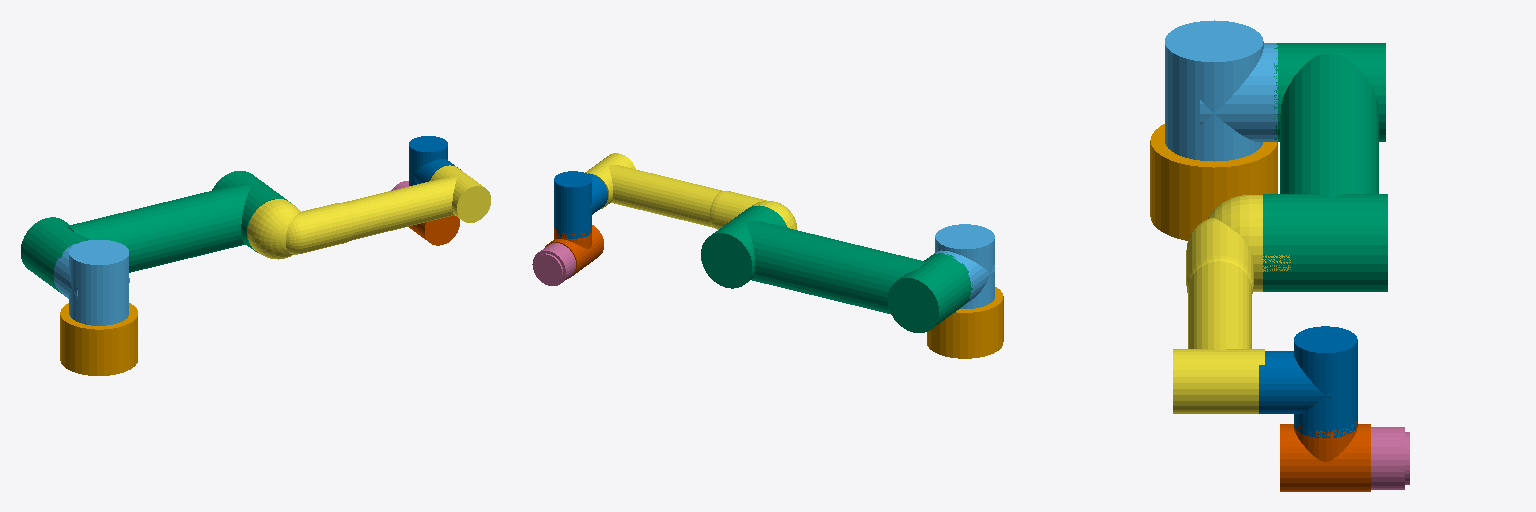
robot.urdf — UR5e:
<?xml version="1.0"?>
<robot name="UR5e" xmlns:xacro="http://ros.org/wiki/xacro">
  <link name="base_link">
    <visual>
      <origin xyz="0 0 0.05" rpy="-4.2146848e-08 0 0"/>
      <geometry>
        <cylinder radius="0.076" length="0.1"/>
      </geometry>
    </visual>
    <collision>
      <origin xyz="0 0 0.05" rpy="-4.2146848e-08 0 0"/>
      <geometry>
        <cylinder radius="0.076" length="0.1"/>
      </geometry>
    </collision>
  </link>
  <joint name="shoulder_pan_joint" type="revolute">
    <parent link="base_link"/>
    <child link="shoulder_link"/>
    <axis xyz="0 0 1"/>
    <limit effort="150" lower="-6.28319" upper="6.28319" velocity="3.14"/>
    <origin xyz="0 0 0.163" rpy="0 0 0"/>
  </joint>
  <link name="shoulder_link">
    <visual>
      <origin xyz="0 0 0" rpy="-4.2146848e-08 0 0"/>
      <geometry>
        <cylinder radius="0.059" length="0.135"/>
      </geometry>
    </visual>
    <collision>
      <origin xyz="0 0 0" rpy="-4.2146848e-08 0 0"/>
      <geometry>
        <cylinder radius="0.059" length="0.135"/>
      </geometry>
    </collision>
    <visual>
      <origin xyz="0 0.03 0" rpy="1.5707963 0 0"/>
      <geometry>
        <cylinder radius="0.059" length="0.093"/>
      </geometry>
    </visual>
    <collision>
      <origin xyz="0 0.03 0" rpy="1.5707963 0 0"/>
      <geometry>
        <cylinder radius="0.059" length="0.093"/>
      </geometry>
    </collision>
  </link>
  <joint name="shoulder_lift_joint" type="revolute">
    <parent link="shoulder_link"/>
    <child link="upper_arm_link"/>
    <axis xyz="0 1 0"/>
    <limit effort="150" lower="-6.28319" upper="6.28319" velocity="3.14"/>
    <origin xyz="0 0.138 0" rpy="0 1.570796 0"/>
  </joint>
  <link name="upper_arm_link">
    <visual>
      <origin xyz="0 0 0.22" rpy="-4.2146848e-08 0 0"/>
      <geometry>
        <cylinder radius="0.059" length="0.407"/>
      </geometry>
    </visual>
    <collision>
      <origin xyz="0 0 0.22" rpy="-4.2146848e-08 0 0"/>
      <geometry>
        <cylinder radius="0.059" length="0.407"/>
      </geometry>
    </collision>
    <visual>
      <origin xyz="0 0 0" rpy="1.5707963 0 0"/>
      <geometry>
        <cylinder radius="0.059" length="0.133"/>
      </geometry>
    </visual>
    <collision>
      <origin xyz="0 0 0" rpy="1.5707963 0 0"/>
      <geometry>
        <cylinder radius="0.059" length="0.133"/>
      </geometry>
    </collision>
    <visual>
      <origin xyz="0 -0.005 0.424" rpy="1.5707963 0 0"/>
      <geometry>
        <cylinder radius="0.059" length="0.149"/>
      </geometry>
    </visual>
    <collision>
      <origin xyz="0 -0.005 0.424" rpy="1.5707963 0 0"/>
      <geometry>
        <cylinder radius="0.059" length="0.149"/>
      </geometry>
    </collision>
  </link>
  <joint name="elbow_joint" type="revolute">
    <parent link="upper_arm_link"/>
    <child link="forearm_link"/>
    <axis xyz="0 1 0"/>
    <limit effort="150" lower="-3.14159" upper="3.14159" velocity="3.14"/>
    <origin xyz="0 -0.131 0.425" rpy="0 0 0"/>
  </joint>
  <link name="forearm_link">
    <visual>
      <origin xyz="0 0 0.207" rpy="-4.2146848e-08 0 0"/>
      <geometry>
        <cylinder radius="0.038" length="0.36"/>
      </geometry>
    </visual>
    <collision>
      <origin xyz="0 0 0.207" rpy="-4.2146848e-08 0 0"/>
      <geometry>
        <cylinder radius="0.038" length="0.36"/>
      </geometry>
    </collision>
    <visual>
      <origin xyz="0 -0.001 0.39" rpy="1.5707963 0 0"/>
      <geometry>
        <cylinder radius="0.039" length="0.109"/>
      </geometry>
    </visual>
    <collision>
      <origin xyz="0 -0.001 0.39" rpy="1.5707963 0 0"/>
      <geometry>
        <cylinder radius="0.039" length="0.109"/>
      </geometry>
    </collision>
    <visual>
      <origin xyz="0 0.06 0" rpy="1.5707963 0 0"/>
      <geometry>
        <cylinder radius="0.058" length="0.05"/>
      </geometry>
    </visual>
    <collision>
      <origin xyz="0 0.06 0" rpy="1.5707963 0 0"/>
      <geometry>
        <cylinder radius="0.058" length="0.05"/>
      </geometry>
    </collision>
    <visual>
      <origin xyz="0 0.085 -7.4505807e-10" rpy="1.5707963 0 0"/>
      <geometry>
        <sphere radius="0.058"/>
      </geometry>
    </visual>
    <collision>
      <origin xyz="0 0.085 -7.4505807e-10" rpy="1.5707963 0 0"/>
      <geometry>
        <sphere radius="0.058"/>
      </geometry>
    </collision>
    <visual>
      <origin xyz="0 0.035 7.4505807e-10" rpy="1.5707963 0 0"/>
      <geometry>
        <sphere radius="0.058"/>
      </geometry>
    </visual>
    <collision>
      <origin xyz="0 0.035 7.4505807e-10" rpy="1.5707963 0 0"/>
      <geometry>
        <sphere radius="0.058"/>
      </geometry>
    </collision>
    <visual>
      <origin xyz="0 0 0.07" rpy="3.1415925 0 0"/>
      <geometry>
        <cylinder radius="0.04" length="0.1"/>
      </geometry>
    </visual>
    <collision>
      <origin xyz="0 0 0.07" rpy="3.1415925 0 0"/>
      <geometry>
        <cylinder radius="0.04" length="0.1"/>
      </geometry>
    </collision>
    <visual>
      <origin xyz="0 1.7298609e-09 0.12" rpy="3.1415925 0 0"/>
      <geometry>
        <sphere radius="0.04"/>
      </geometry>
    </visual>
    <collision>
      <origin xyz="0 1.7298609e-09 0.12" rpy="3.1415925 0 0"/>
      <geometry>
        <sphere radius="0.04"/>
      </geometry>
    </collision>
    <visual>
      <origin xyz="0 -1.7298609e-09 0.02" rpy="3.1415925 0 0"/>
      <geometry>
        <sphere radius="0.04"/>
      </geometry>
    </visual>
    <collision>
      <origin xyz="0 -1.7298609e-09 0.02" rpy="3.1415925 0 0"/>
      <geometry>
        <sphere radius="0.04"/>
      </geometry>
    </collision>
  </link>
  <joint name="wrist_1_joint" type="revolute">
    <parent link="forearm_link"/>
    <child link="wrist_1_link"/>
    <axis xyz="0 1 0"/>
    <limit effort="28" lower="-6.28319" upper="6.28319" velocity="6.28"/>
    <origin xyz="0 0 0.392" rpy="0 1.570796 0"/>
  </joint>
  <link name="wrist_1_link">
    <visual>
      <origin xyz="0 0.089 0" rpy="1.5707963 0 0"/>
      <geometry>
        <cylinder radius="0.038" length="0.086"/>
      </geometry>
    </visual>
    <collision>
      <origin xyz="0 0.089 0" rpy="1.5707963 0 0"/>
      <geometry>
        <cylinder radius="0.038" length="0.086"/>
      </geometry>
    </collision>
    <visual>
      <origin xyz="0 0.126 0" rpy="-4.2146848e-08 0 0"/>
      <geometry>
        <cylinder radius="0.038" length="0.112"/>
      </geometry>
    </visual>
    <collision>
      <origin xyz="0 0.126 0" rpy="-4.2146848e-08 0 0"/>
      <geometry>
        <cylinder radius="0.038" length="0.112"/>
      </geometry>
    </collision>
  </link>
  <joint name="wrist_2_joint" type="revolute">
    <parent link="wrist_1_link"/>
    <child link="wrist_2_link"/>
    <axis xyz="0 0 1"/>
    <limit effort="28" lower="-6.28319" upper="6.28319" velocity="6.28"/>
    <origin xyz="0 0.127 0" rpy="0 0 0"/>
  </joint>
  <link name="wrist_2_link">
    <visual>
      <origin xyz="0 -0.001 0.0995" rpy="1.5707963 0 0"/>
      <geometry>
        <cylinder radius="0.04" length="0.108"/>
      </geometry>
    </visual>
    <collision>
      <origin xyz="0 -0.001 0.0995" rpy="1.5707963 0 0"/>
      <geometry>
        <cylinder radius="0.04" length="0.108"/>
      </geometry>
    </collision>
    <visual>
      <origin xyz="0 -0.001 0.0676" rpy="-4.2146848e-08 0 0"/>
      <geometry>
        <cylinder radius="0.038" length="0.043"/>
      </geometry>
    </visual>
    <collision>
      <origin xyz="0 -0.001 0.0676" rpy="-4.2146848e-08 0 0"/>
      <geometry>
        <cylinder radius="0.038" length="0.043"/>
      </geometry>
    </collision>
  </link>
  <joint name="wrist_3_joint" type="revolute">
    <parent link="wrist_2_link"/>
    <child link="wrist_3_link"/>
    <axis xyz="0 1 0"/>
    <limit effort="28" lower="-6.28319" upper="6.28319" velocity="6.28"/>
    <origin xyz="0 0 0.1" rpy="0 0 0"/>
  </joint>
  <link name="wrist_3_link">
    <visual>
      <origin xyz="0 0.07 0" rpy="1.5707963 0 0"/>
      <geometry>
        <cylinder radius="0.038" length="0.048"/>
      </geometry>
    </visual>
    <collision>
      <origin xyz="0 0.07 0" rpy="1.5707963 0 0"/>
      <geometry>
        <cylinder radius="0.038" length="0.048"/>
      </geometry>
    </collision>
    <visual>
      <origin xyz="0 0.09 0" rpy="1.5707963 0 0"/>
      <geometry>
        <cylinder radius="0.032" length="0.018"/>
      </geometry>
    </visual>
    <collision>
      <origin xyz="0 0.09 0" rpy="1.5707963 0 0"/>
      <geometry>
        <cylinder radius="0.032" length="0.018"/>
      </geometry>
    </collision>
  </link>
  <link name="track_362">
  </link>
  <joint name="wrist_3_link_track_362_joint" type="fixed">
    <parent link="wrist_3_link"/>
    <child link="track_362"/>
    <origin xyz="0 0.1 0" rpy="0 0 0"/>
  </joint>
</robot>

--- What the picture shows (computed from the rendered views, not written in the file) ---
3 views of the same robot in one strip: view 1: azimuth 30°, elevation 25°; view 2: azimuth 150°, elevation 25°; view 3: azimuth 270°, elevation 25° (orthographic).
Model UR5e with 8 links and 7 joints (6 revolute, 1 fixed), rooted at base_link, posed every joint at zero.
Visible links, largest first — view 1: upper_arm_link, forearm_link, shoulder_link, base_link, wrist_1_link, wrist_2_link; view 2: upper_arm_link, forearm_link, base_link, shoulder_link, wrist_1_link, wrist_3_link, wrist_2_link; view 3: upper_arm_link, forearm_link, shoulder_link, wrist_1_link, base_link, wrist_2_link, wrist_3_link.
Link boxes in pixels (<box>): upper_arm_link: <box>21,171,290,293</box>; forearm_link: <box>247,165,490,259</box>; shoulder_link: <box>53,240,129,325</box>; base_link: <box>60,303,137,375</box>; wrist_1_link: <box>409,136,460,185</box>; wrist_2_link: <box>409,215,459,245</box>; upper_arm_link: <box>701,205,972,332</box>; forearm_link: <box>585,153,796,229</box>; base_link: <box>927,287,1003,358</box>; shoulder_link: <box>931,224,994,308</box>; wrist_1_link: <box>554,171,607,238</box>; wrist_3_link: <box>532,243,575,285</box>; wrist_2_link: <box>545,225,603,278</box>; upper_arm_link: <box>1263,43,1387,291</box>; forearm_link: <box>1173,195,1290,413</box>; shoulder_link: <box>1165,20,1277,161</box>; wrist_1_link: <box>1259,326,1357,437</box>; base_link: <box>1150,124,1277,240</box>; wrist_2_link: <box>1280,422,1370,491</box>; wrist_3_link: <box>1371,427,1409,489</box>.
Size in the robot's own frame: 0.933 by 0.309 by 0.2305 metres.
Geometry: primitives only (box / cylinder / sphere), no mesh files.